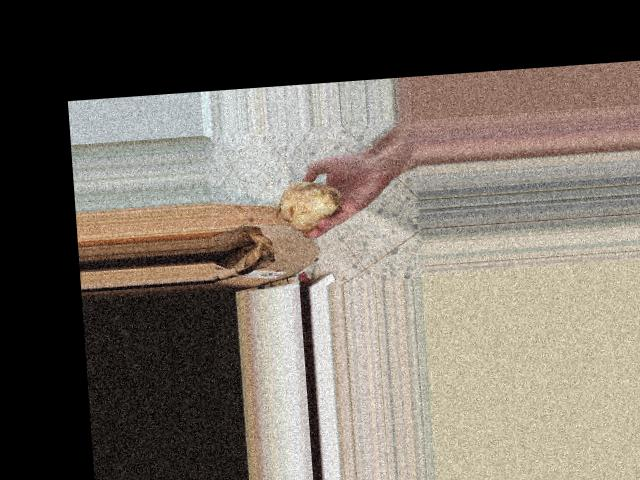onion: (274, 173, 349, 235)
